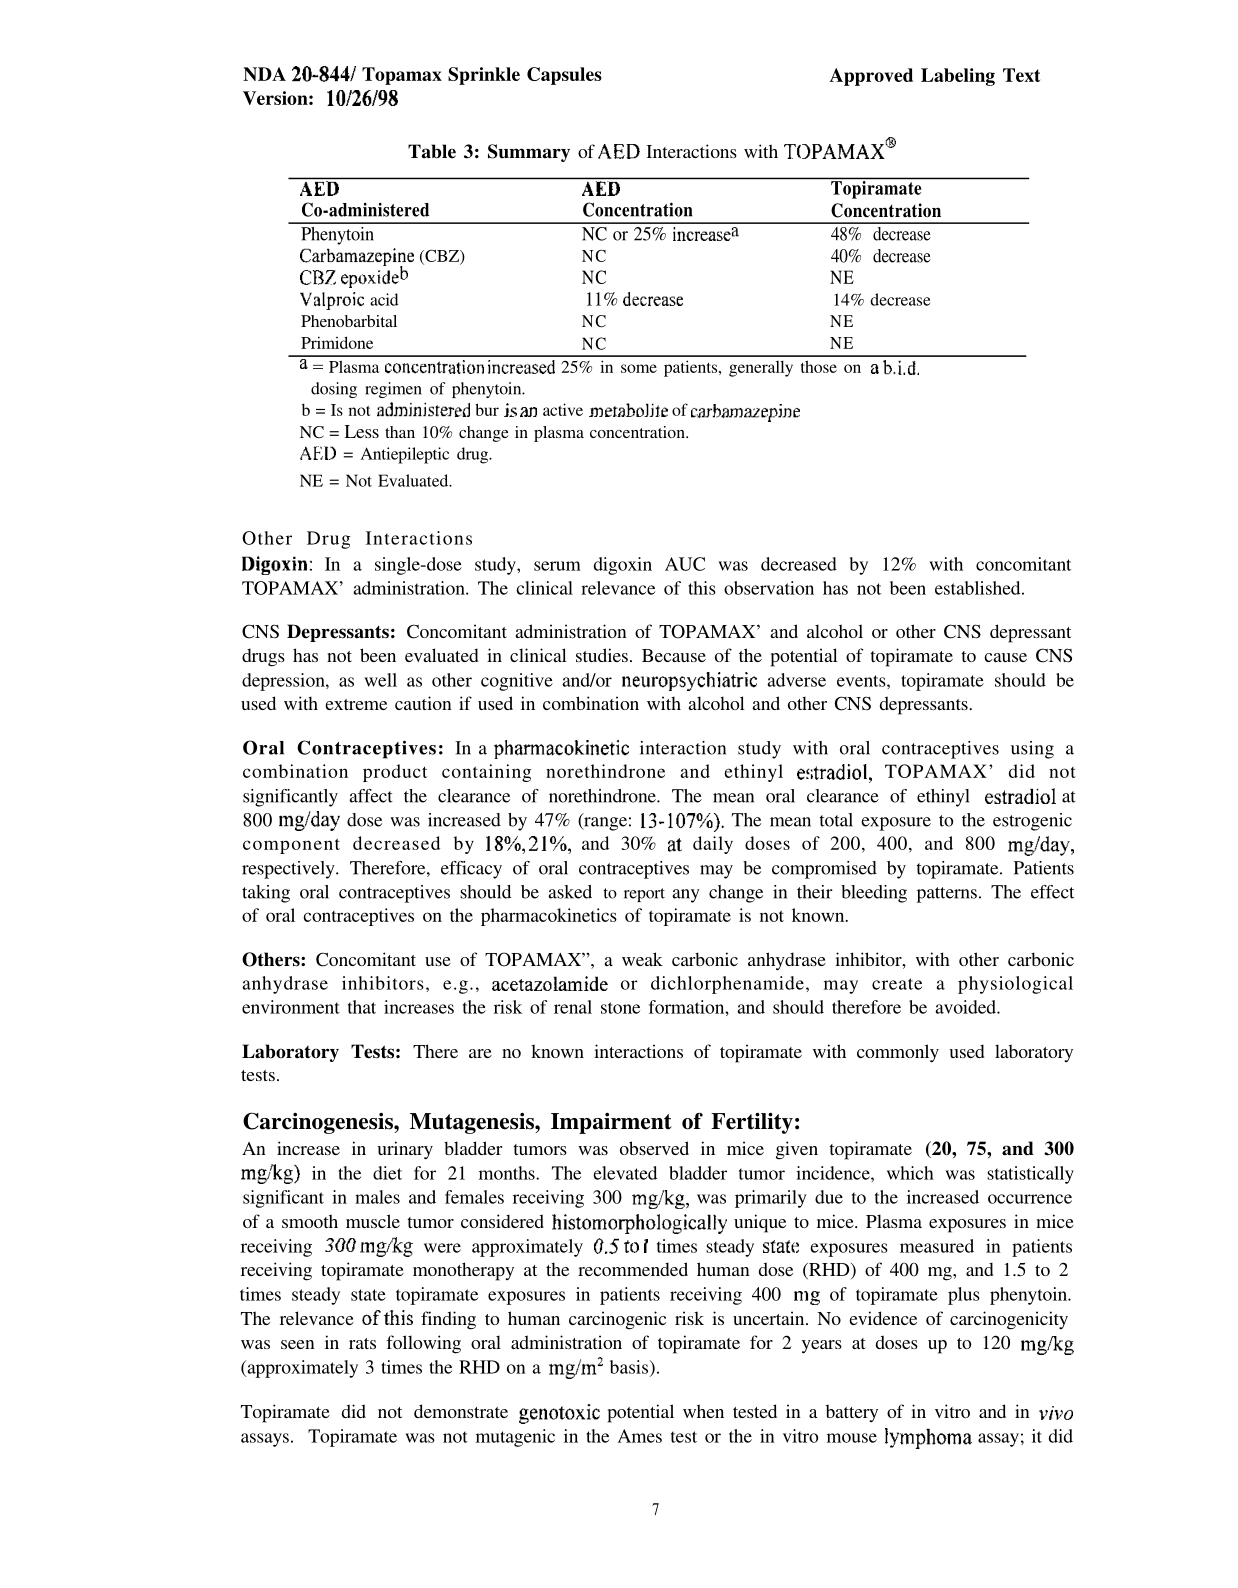partial_lined: (286, 175, 1032, 360)
